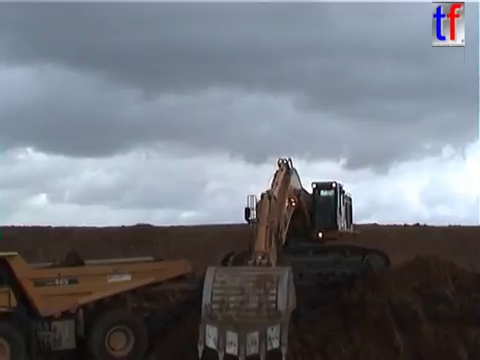excavator: (193, 154, 394, 360)
truck: (1, 248, 194, 360)
